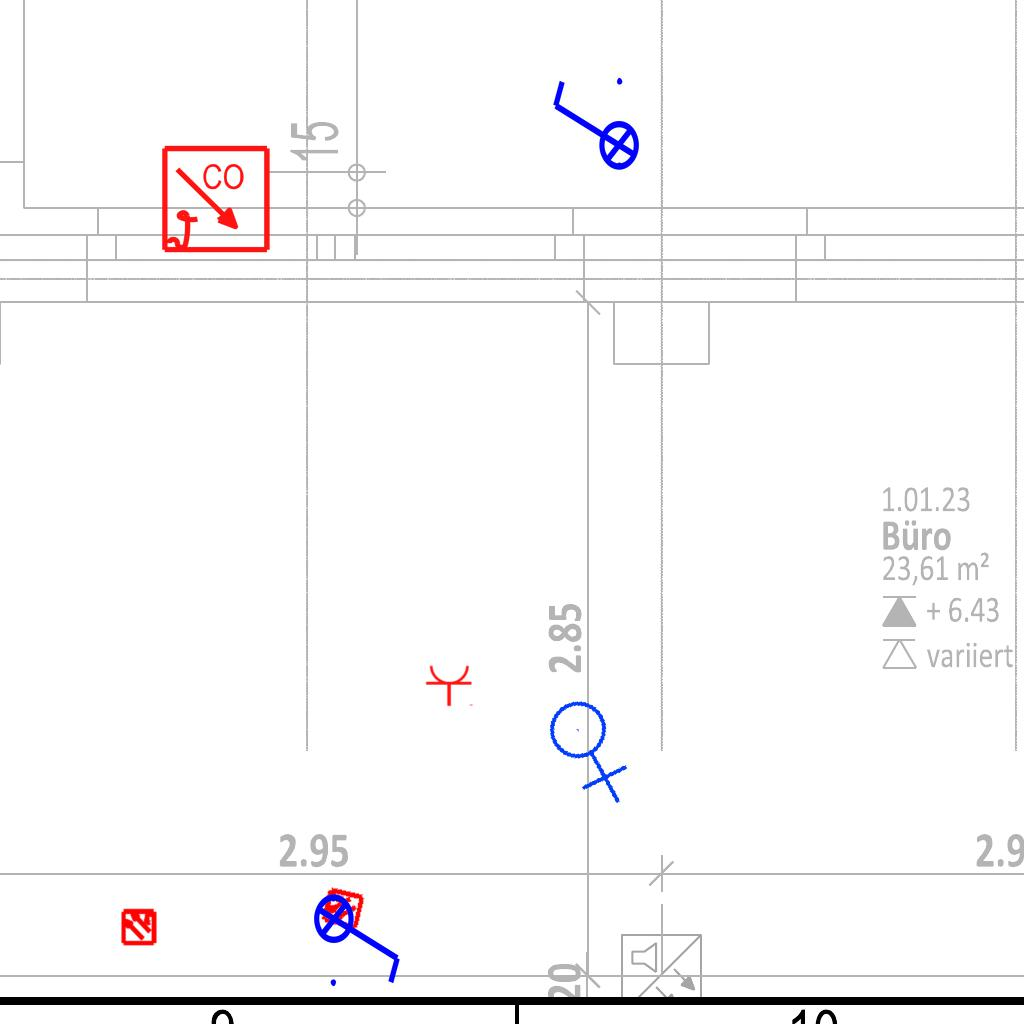Ausschalter_beleuchtet: (545, 72, 641, 184), (312, 880, 408, 992)
Elektroanschluss_allgemein_230V_Geraeteanschlussdose_230V: (533, 686, 650, 806)
OT_Multisensormelder_(Kombination_RMO_WMD): (308, 874, 376, 942), (111, 898, 167, 954)
ROA_Rauchmelder_optisch_mit_Signalgeber_(Sockelsirene): (160, 144, 273, 257)
Schukosteckdose_einfach: (425, 664, 475, 707)
